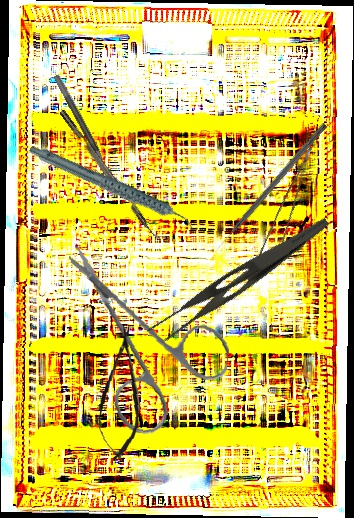Chopper: (59, 104, 167, 246)
Dressing Forceps: (144, 198, 331, 355)
Fixation Ring: (44, 73, 116, 188)
Handpiece: (27, 115, 197, 262)
Hook Surgical: (211, 121, 329, 255)
Iris Scissors: (48, 244, 240, 443)
Micro Scissor: (93, 322, 148, 464)
Tissue Forceps: (250, 146, 333, 270)
